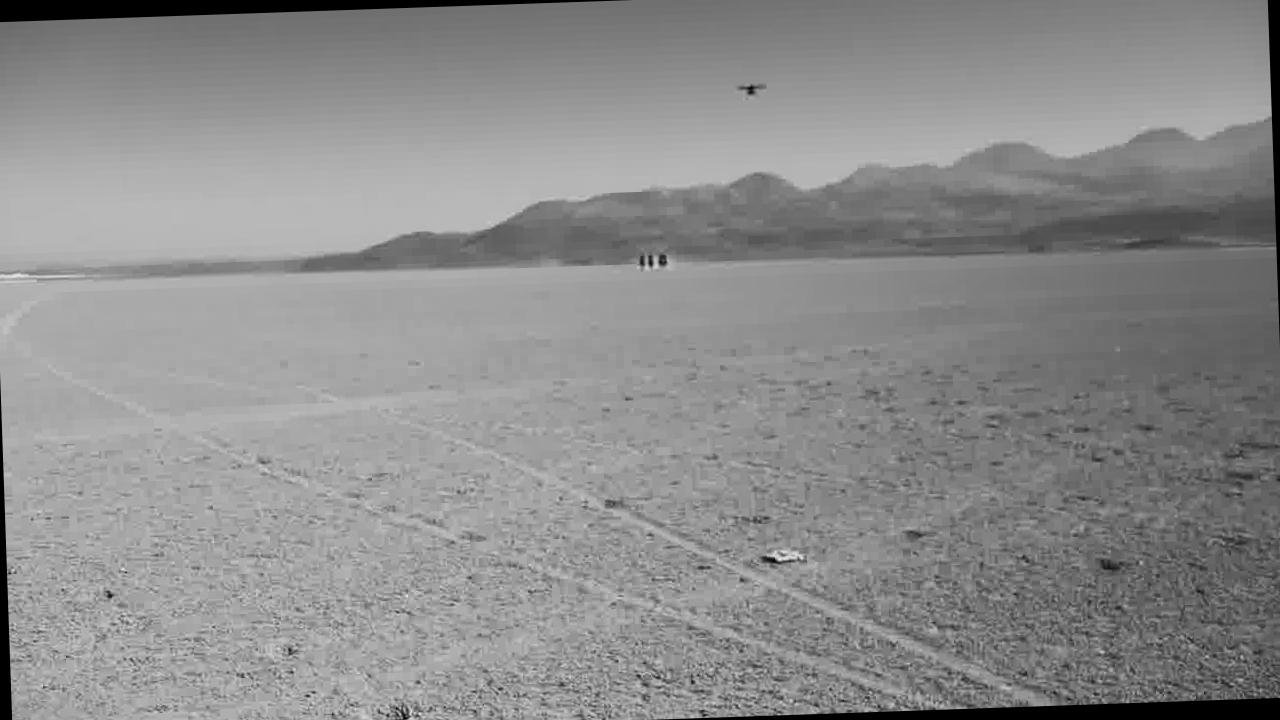drone: (732, 78, 770, 102)
